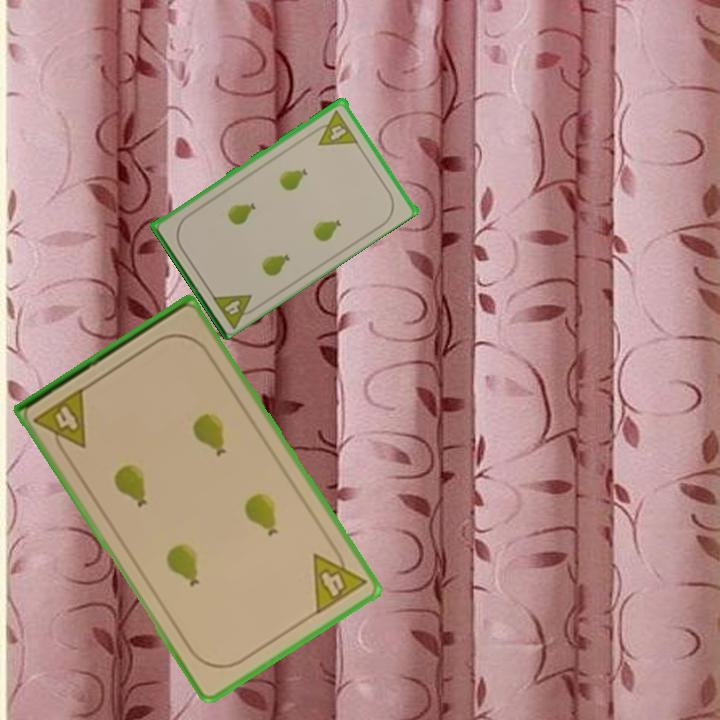4p: (309, 539, 369, 618), (30, 384, 90, 460), (308, 106, 360, 148), (208, 290, 262, 330)
